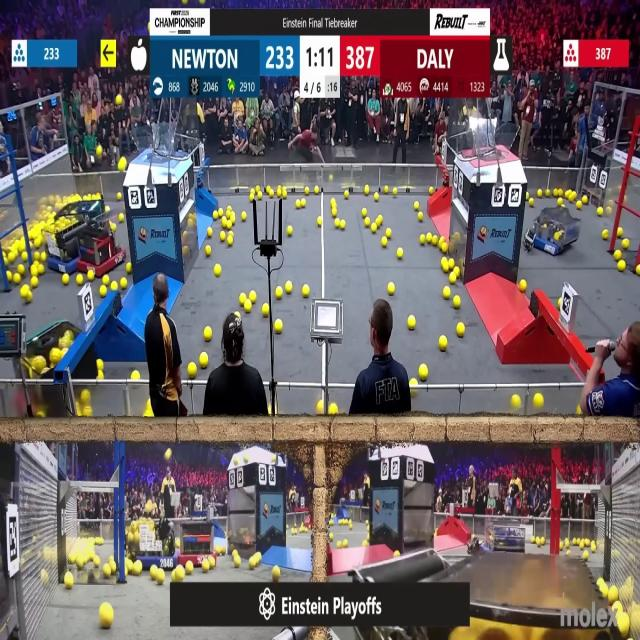ball_airborne: (620, 618, 630, 638), (118, 159, 126, 171), (164, 447, 170, 460), (115, 96, 122, 107), (97, 145, 103, 156), (201, 0, 205, 5), (181, 0, 186, 4)
ball_ground: (100, 604, 114, 628), (533, 393, 543, 407), (174, 567, 184, 581), (419, 364, 428, 379), (65, 573, 74, 588), (150, 566, 158, 582), (513, 394, 522, 408), (187, 362, 196, 376), (134, 562, 143, 576), (273, 565, 281, 579), (201, 353, 209, 367), (157, 570, 165, 584), (457, 323, 465, 336), (409, 316, 417, 329), (316, 403, 324, 416), (441, 338, 448, 352), (205, 327, 212, 341), (275, 320, 283, 332), (185, 562, 193, 574), (100, 285, 108, 297), (249, 558, 257, 570), (244, 302, 252, 314), (203, 561, 211, 573), (81, 390, 89, 402), (20, 285, 28, 297), (104, 564, 111, 577), (328, 406, 337, 416), (82, 408, 91, 418), (444, 287, 452, 298), (31, 266, 39, 277), (303, 285, 310, 297), (388, 282, 395, 294), (214, 266, 221, 278), (276, 286, 283, 298), (454, 296, 461, 308), (285, 282, 292, 294), (77, 557, 84, 569), (622, 240, 630, 250), (12, 275, 20, 285), (102, 276, 110, 286), (619, 262, 626, 273), (235, 557, 242, 568), (97, 358, 104, 369), (420, 235, 427, 246), (444, 263, 451, 274), (7, 252, 14, 263), (120, 278, 126, 290), (520, 280, 526, 292), (250, 290, 256, 302), (264, 305, 270, 317), (426, 234, 432, 246), (616, 250, 623, 260), (449, 274, 456, 284), (110, 282, 117, 292), (569, 190, 576, 200), (63, 275, 69, 286), (240, 293, 246, 304), (27, 291, 33, 302), (76, 275, 82, 286), (396, 248, 402, 259), (134, 368, 140, 379), (123, 566, 129, 577), (316, 217, 323, 226), (219, 217, 226, 226), (32, 278, 38, 288), (89, 272, 95, 282), (602, 231, 608, 241), (127, 264, 133, 274), (38, 266, 44, 276), (286, 225, 292, 235), (17, 266, 23, 276), (23, 251, 29, 261), (341, 219, 347, 229), (386, 230, 392, 240), (363, 217, 369, 227), (98, 368, 104, 378), (382, 238, 388, 248), (6, 272, 12, 282), (206, 246, 212, 256), (210, 559, 216, 569), (442, 243, 448, 253), (186, 244, 192, 254), (431, 236, 437, 246), (216, 544, 222, 554), (596, 208, 603, 216), (411, 378, 418, 386), (450, 258, 455, 269), (226, 237, 232, 246), (220, 233, 226, 242), (418, 212, 424, 221), (370, 223, 376, 232), (618, 229, 624, 238), (377, 216, 383, 225), (40, 252, 46, 261), (213, 212, 219, 221), (95, 558, 101, 567), (584, 552, 590, 561), (558, 199, 564, 208), (225, 219, 231, 228), (34, 239, 40, 248), (415, 202, 420, 212), (336, 218, 341, 228), (218, 208, 223, 218), (145, 412, 152, 419), (536, 189, 542, 197), (115, 191, 121, 199), (575, 202, 581, 210), (363, 186, 369, 194), (330, 200, 336, 208), (362, 539, 368, 547), (428, 186, 434, 194), (34, 252, 40, 260), (98, 536, 104, 544), (226, 230, 232, 238), (331, 208, 336, 217), (242, 212, 247, 221), (361, 208, 366, 217), (372, 195, 378, 202), (554, 188, 560, 195), (269, 190, 275, 197), (348, 521, 354, 528), (96, 192, 102, 199), (636, 266, 640, 276), (529, 200, 534, 208), (338, 540, 343, 548), (584, 197, 589, 205), (344, 539, 349, 547), (544, 188, 549, 196), (455, 268, 460, 276), (269, 409, 274, 417), (111, 222, 116, 230), (592, 542, 596, 552), (394, 552, 400, 558), (234, 551, 240, 557), (118, 215, 123, 222), (315, 186, 320, 193), (232, 217, 237, 224), (384, 186, 389, 193), (525, 191, 530, 198), (345, 190, 349, 198), (208, 230, 212, 238), (295, 201, 299, 209), (576, 409, 580, 417), (283, 190, 287, 198), (257, 191, 261, 199), (560, 541, 564, 549), (250, 193, 254, 200), (393, 188, 397, 195), (306, 187, 310, 194), (106, 206, 110, 213)
goal: (464, 121, 521, 160), (125, 130, 188, 159)
robot_blue: (126, 517, 178, 571), (44, 210, 86, 275), (530, 208, 579, 255)
robot_red: (17, 319, 91, 414), (178, 517, 218, 565)
